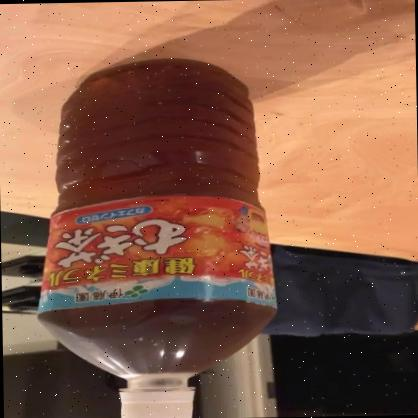bottle: (30, 58, 279, 418)
cap: (108, 383, 201, 418)
label: (35, 196, 276, 308)
